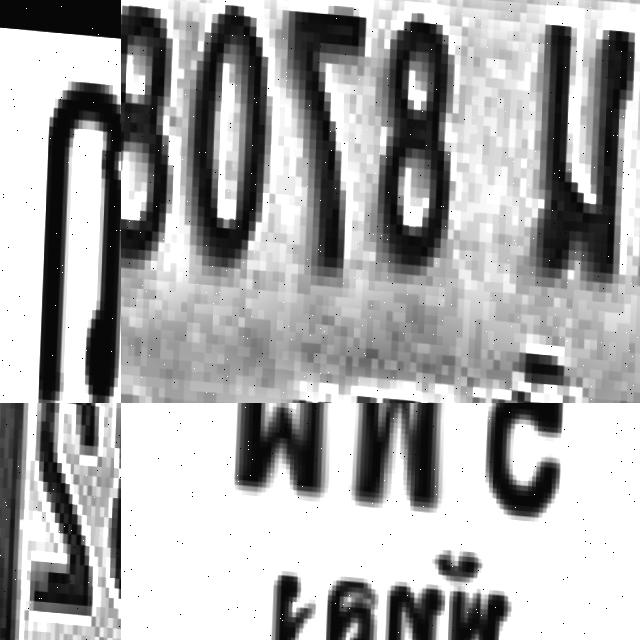license-plate: (121, 0, 640, 403), (121, 403, 640, 640), (0, 0, 121, 403), (0, 403, 121, 640)
